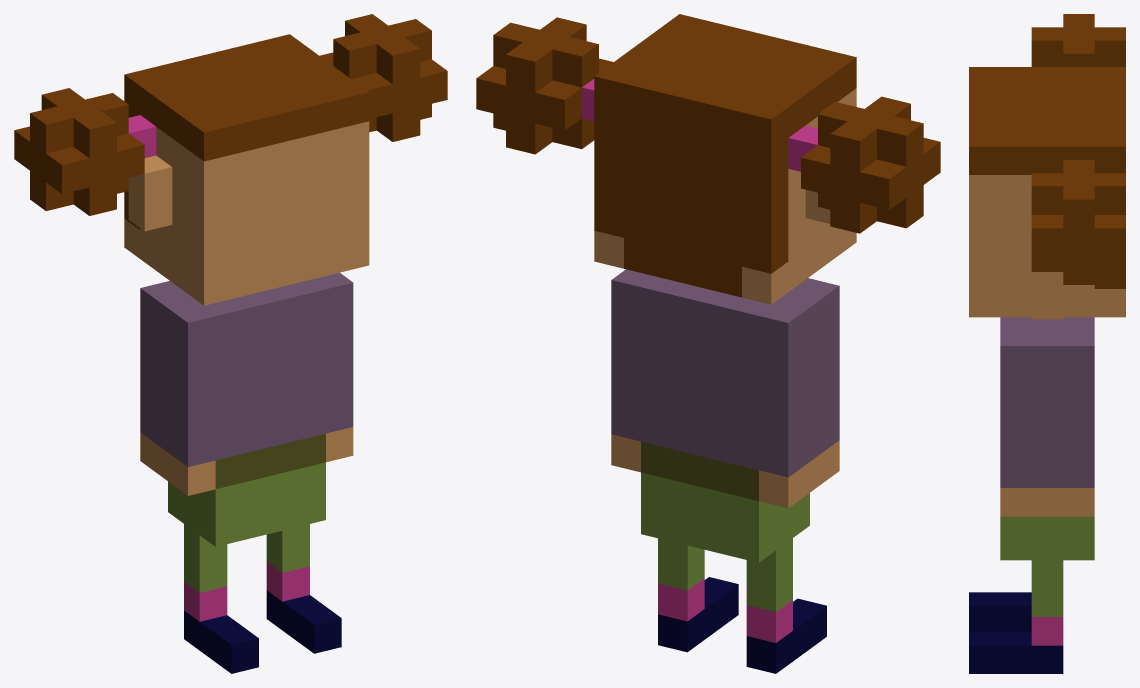
The model's file is Kid00.gltf.
3 renders of one model, left to right at view 1: azimuth 30°, elevation 25°; view 2: azimuth 150°, elevation 25°; view 3: azimuth 270°, elevation 25°, orthographic. The views are drawn at different scales.
Visible parts, largest first — view 1: Layer.1; view 2: Layer.1; view 3: Layer.1.
Part boxes in pixels (x1,y1,x2,y2): Layer.1: [14, 14, 447, 673]; Layer.1: [476, 14, 940, 673]; Layer.1: [969, 14, 1125, 673].
Size of the model in its own units: 14 by 19 by 5.
